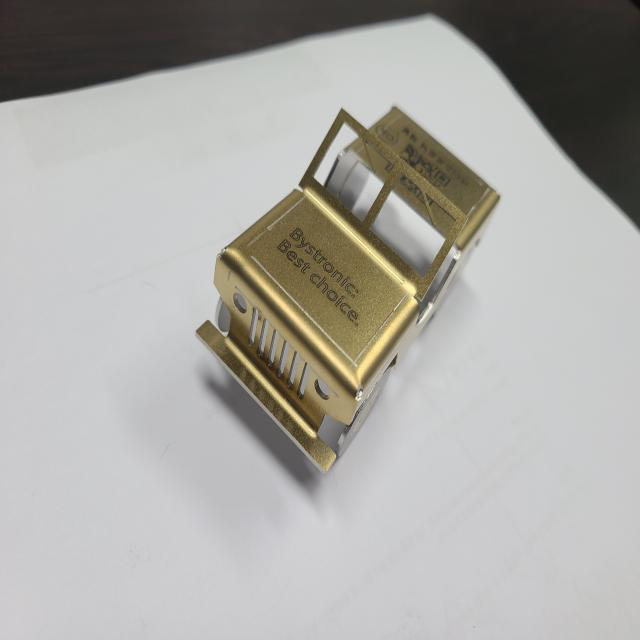tire: (336, 367, 392, 457), (432, 241, 479, 319)
